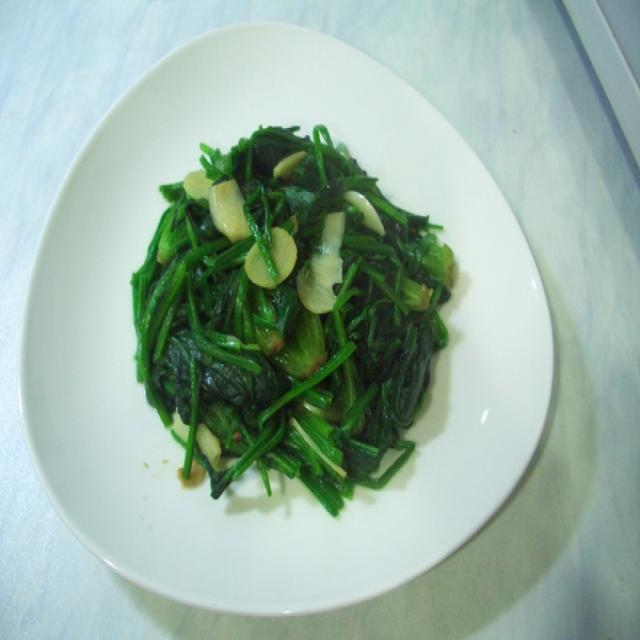蔬菜料理: (99, 65, 499, 576)
